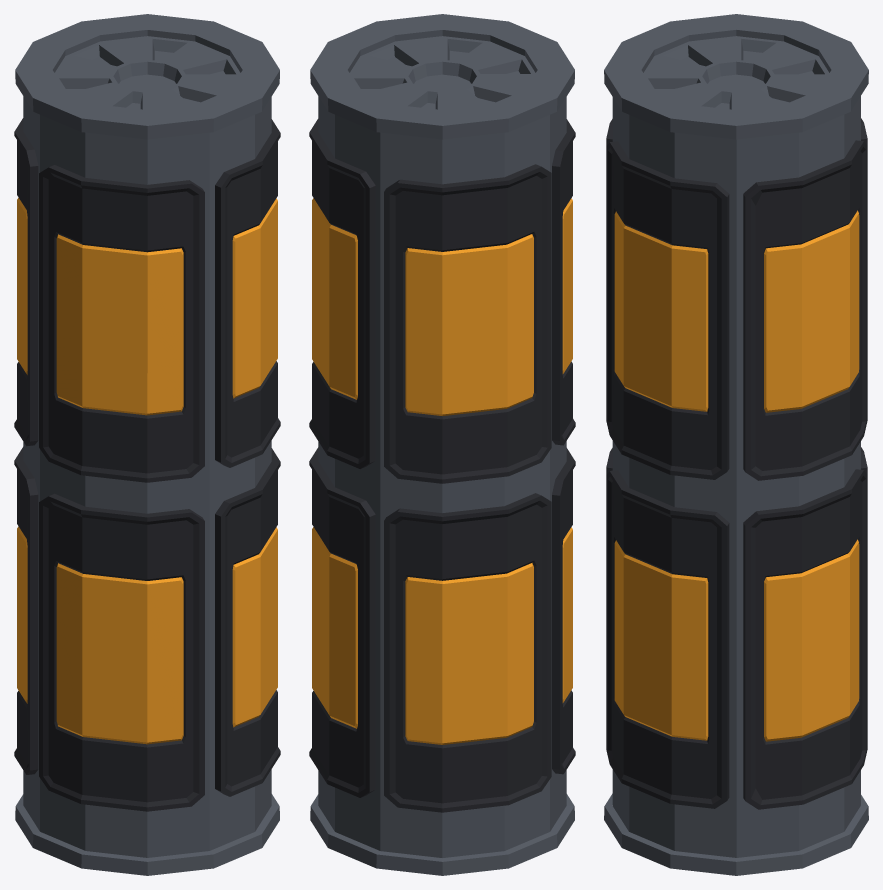
File: SM_Dead-end_pipe.glb
The picture shows the model from 3 angles, left to right: view 1: azimuth 30°, elevation 25°; view 2: azimuth 150°, elevation 25°; view 3: azimuth 270°, elevation 25°; orthographic projection.
Parts seen in each view (by area): view 1: SM_Dead-end_pipe; view 2: SM_Dead-end_pipe; view 3: SM_Dead-end_pipe.
Part boxes in pixels (x1,y1,x2,y2): SM_Dead-end_pipe: (14, 14, 280, 875); SM_Dead-end_pipe: (309, 14, 575, 875); SM_Dead-end_pipe: (604, 14, 868, 875).
Size of the model in its own units: 0.6403 by 2 by 0.6403.
1 material, 1 textured.
